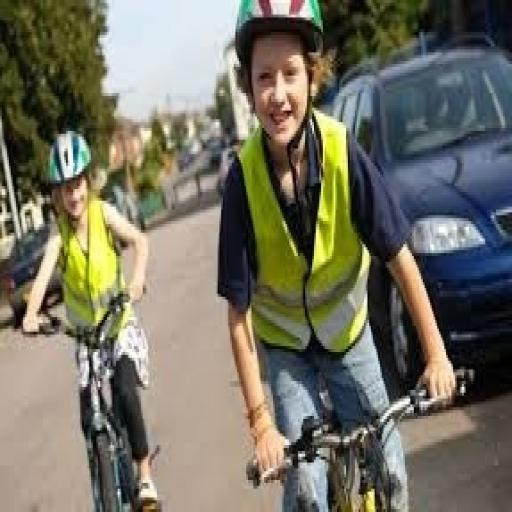cycling: (214, 0, 459, 509), (20, 125, 162, 509)
